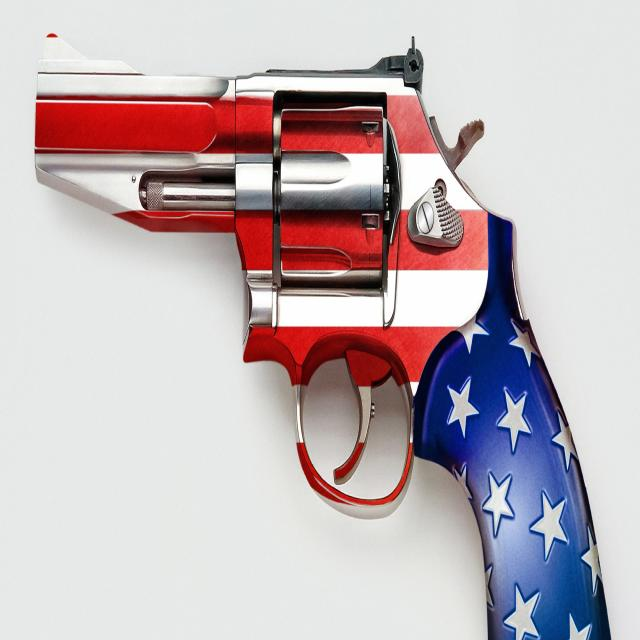gun: (28, 12, 626, 627)
